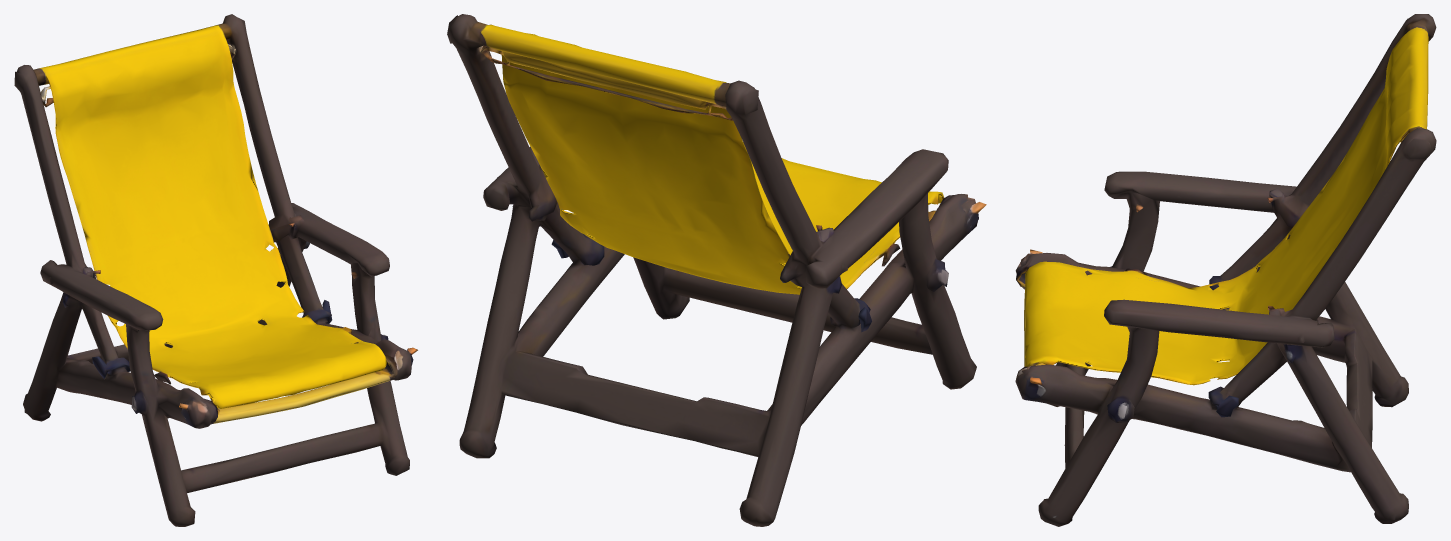
Rendered from beach chair 3d model.glb.
The picture shows the model from 3 angles, left to right: view 1: azimuth 30°, elevation 25°; view 2: azimuth 150°, elevation 25°; view 3: azimuth 270°, elevation 25°; orthographic projection. The views are drawn at different scales.
Visible parts, largest first — view 1: tripo_node_7e311220-9546-454e-83e1-4d413311ecfa; view 2: tripo_node_7e311220-9546-454e-83e1-4d413311ecfa; view 3: tripo_node_7e311220-9546-454e-83e1-4d413311ecfa.
Part boxes in pixels (<box>): tripo_node_7e311220-9546-454e-83e1-4d413311ecfa: <box>14,14,417,526</box>; tripo_node_7e311220-9546-454e-83e1-4d413311ecfa: <box>447,14,986,526</box>; tripo_node_7e311220-9546-454e-83e1-4d413311ecfa: <box>1015,14,1436,526</box>.
Size of the model in its own units: 0.8046 by 1 by 0.972.
1 material, 1 textured.
